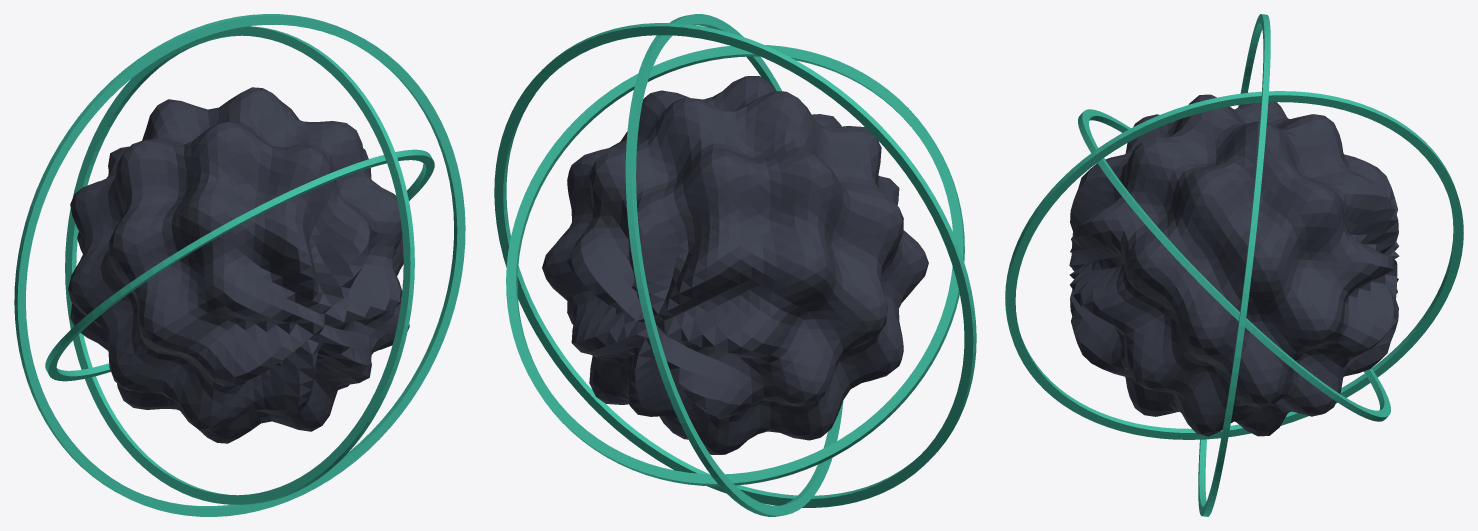
File: gpu-artifact.glb
3 renders of one model, left to right at view 1: azimuth 30°, elevation 25°; view 2: azimuth 150°, elevation 25°; view 3: azimuth 270°, elevation 25°, orthographic. The views are drawn at different scales.
Visible parts, largest first — view 1: yara-sigma-forge_obsidian_core, yara-sigma-forge_orbital_ring_2, yara-sigma-forge_orbital_ring_1, yara-sigma-forge_orbital_ring_0; view 2: yara-sigma-forge_obsidian_core, yara-sigma-forge_orbital_ring_2, yara-sigma-forge_orbital_ring_0, yara-sigma-forge_orbital_ring_1; view 3: yara-sigma-forge_obsidian_core, yara-sigma-forge_orbital_ring_1, yara-sigma-forge_orbital_ring_2, yara-sigma-forge_orbital_ring_0.
Boxes of the visible parts, bbox=[...] form: yara-sigma-forge_obsidian_core: bbox=[68, 87, 409, 443]; yara-sigma-forge_orbital_ring_2: bbox=[14, 14, 465, 516]; yara-sigma-forge_orbital_ring_1: bbox=[65, 26, 414, 504]; yara-sigma-forge_orbital_ring_0: bbox=[45, 149, 434, 381]; yara-sigma-forge_obsidian_core: bbox=[542, 76, 928, 454]; yara-sigma-forge_orbital_ring_2: bbox=[494, 23, 976, 507]; yara-sigma-forge_orbital_ring_0: bbox=[506, 45, 964, 486]; yara-sigma-forge_orbital_ring_1: bbox=[625, 14, 843, 516]; yara-sigma-forge_obsidian_core: bbox=[1069, 94, 1399, 436]; yara-sigma-forge_orbital_ring_1: bbox=[1005, 91, 1463, 439]; yara-sigma-forge_orbital_ring_2: bbox=[1198, 14, 1270, 516]; yara-sigma-forge_orbital_ring_0: bbox=[1078, 109, 1390, 421].
Bounding box in the file's own units: 3.24 × 3.22 × 2.94.
